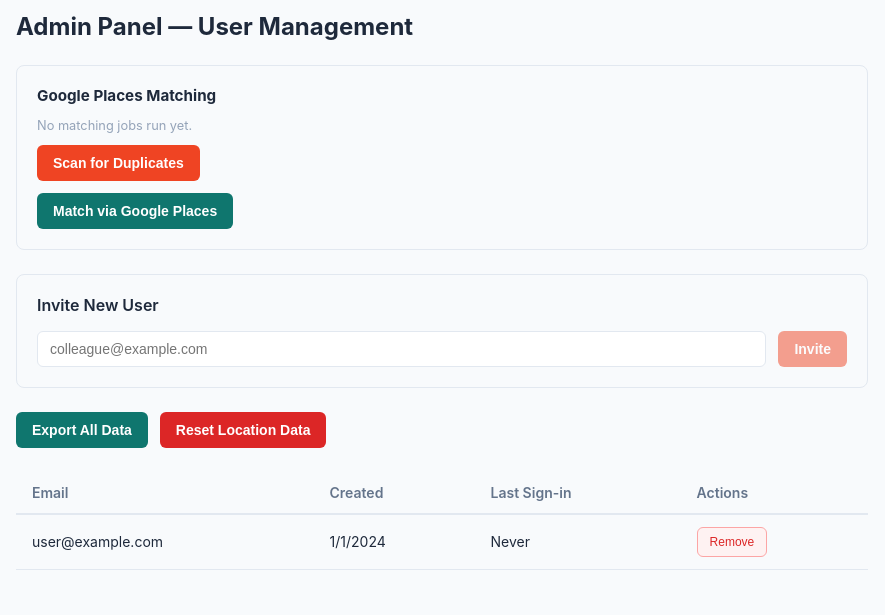
Scenario: AdminPanel › removes a user after confirmation
Expected: the text "user@example.com" is shown, x1=16 y1=514 x2=314 y2=569
# Click remove button
What coordinates should you click on to do the following:
click the button with aria-label "Remove user@example.com"
I would click on:
 (732, 542)
Its box is x1=697 y1=527 x2=767 y2=557.
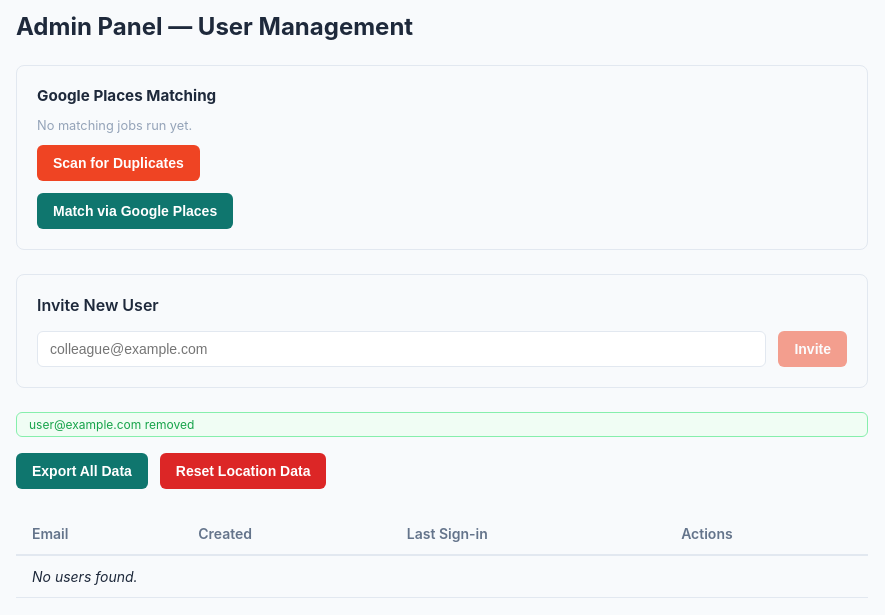
Expected: the text "user@example.com removed" is shown, x1=16 y1=412 x2=868 y2=437
